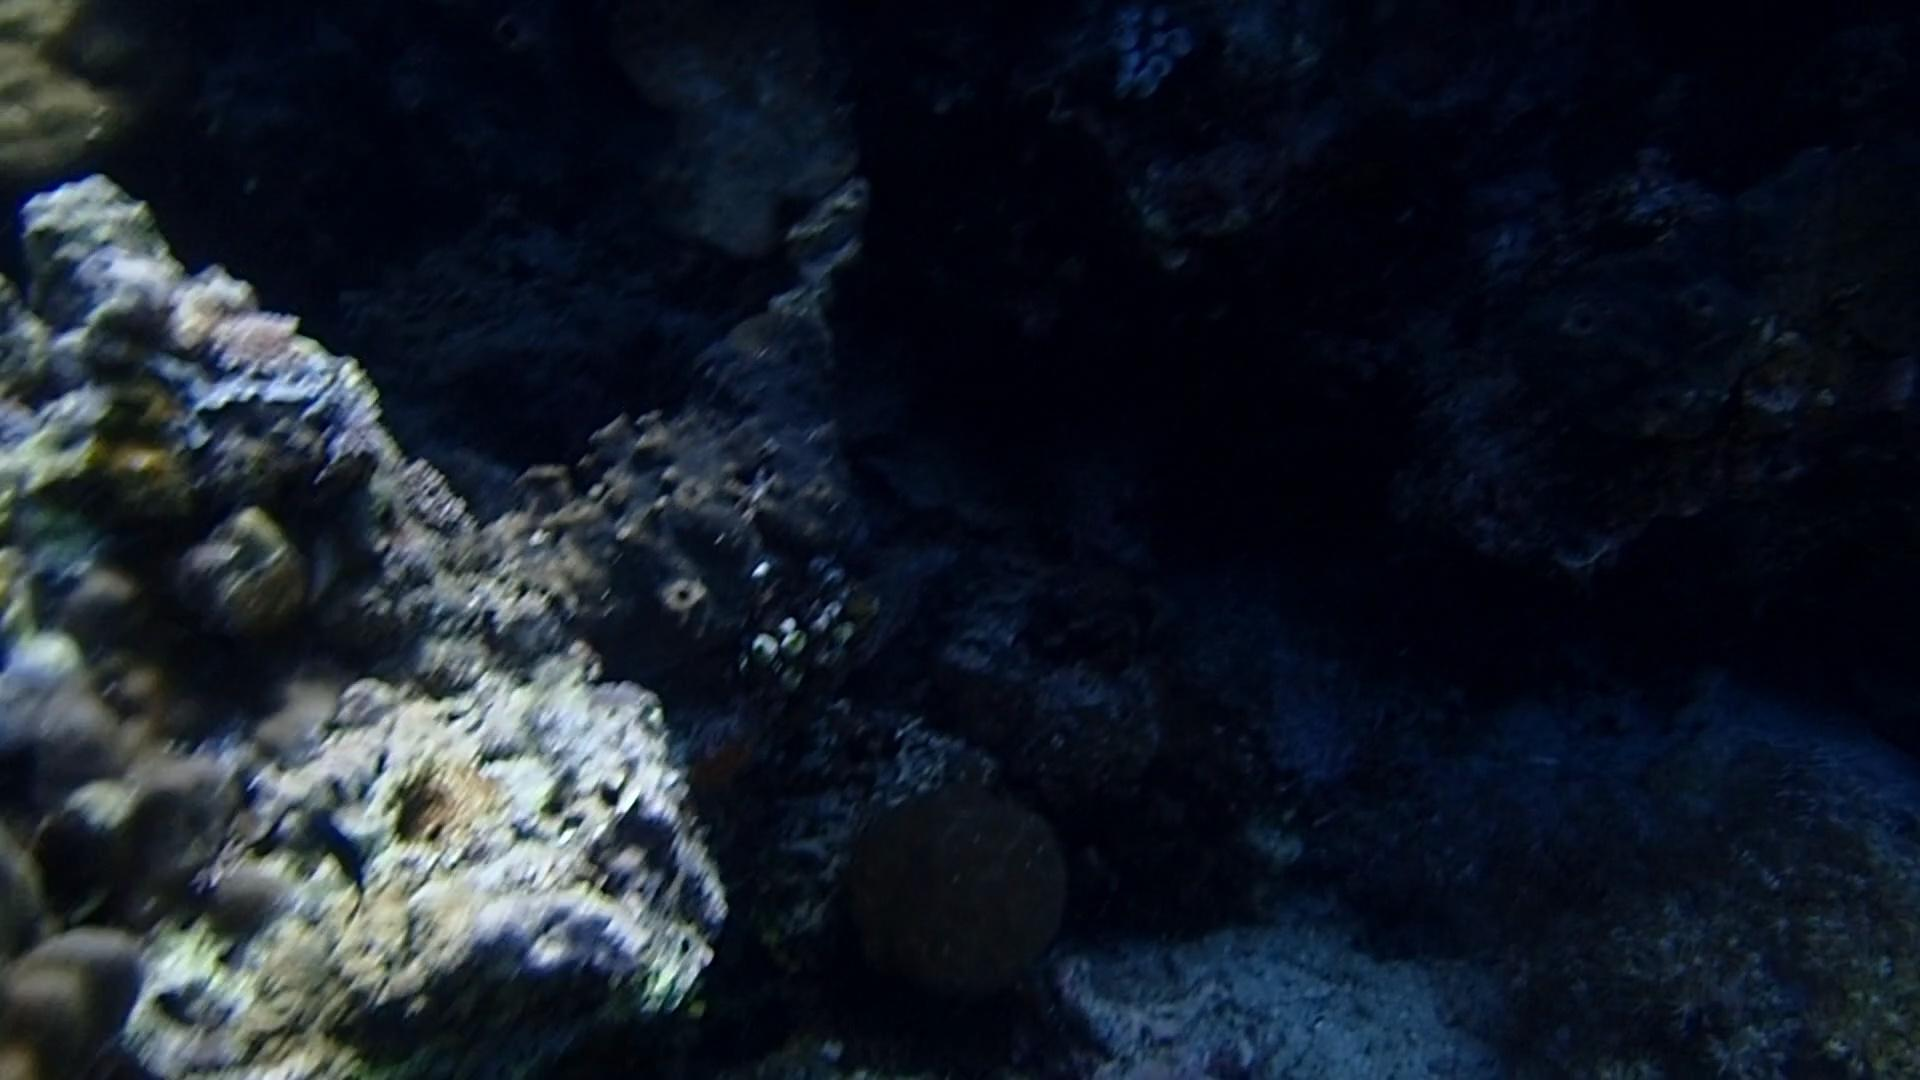Dark Fish: (293, 794, 380, 907)
